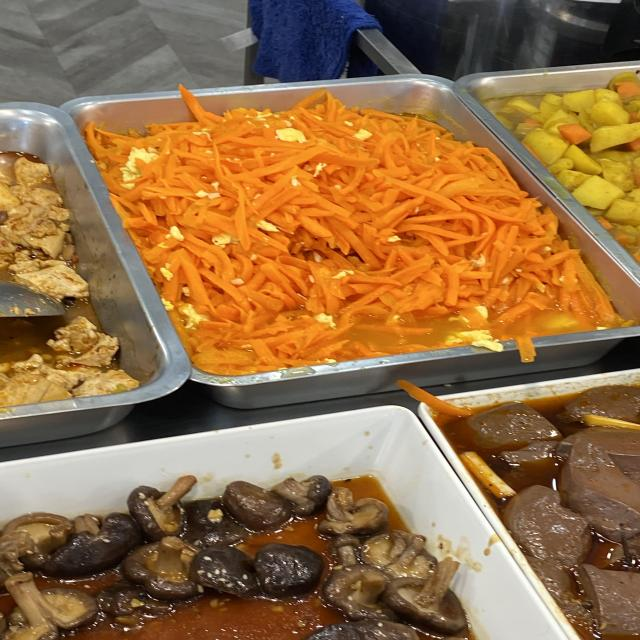Scrambled eggs with carrots: (185, 145, 474, 308)
